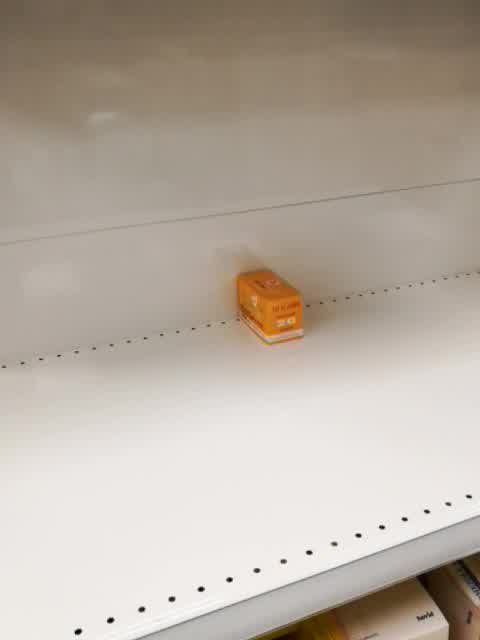jasminetea: (234, 269, 305, 347)
